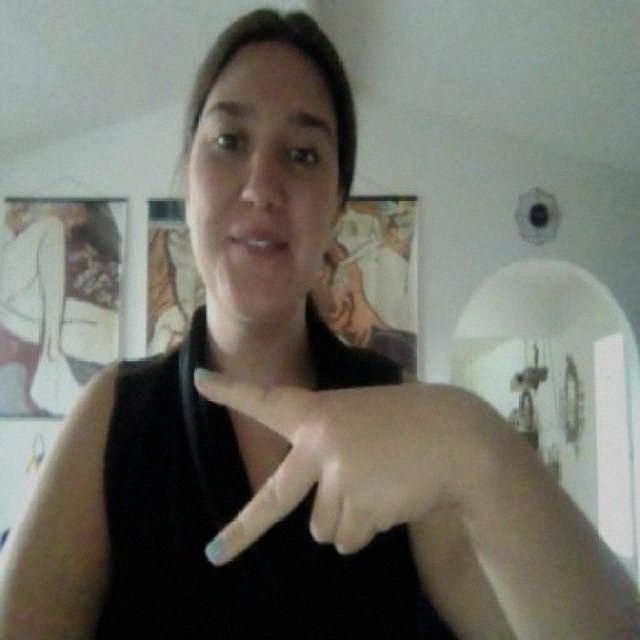Scissors: (185, 365, 477, 572)
